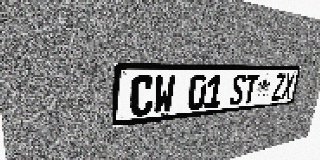0: (187, 75, 208, 111)
1: (204, 74, 224, 109)
C: (129, 75, 154, 117)
S: (229, 74, 247, 106)
T: (242, 74, 259, 104)
W: (152, 75, 176, 115)
X: (281, 74, 295, 100)
Z: (271, 74, 286, 101)
